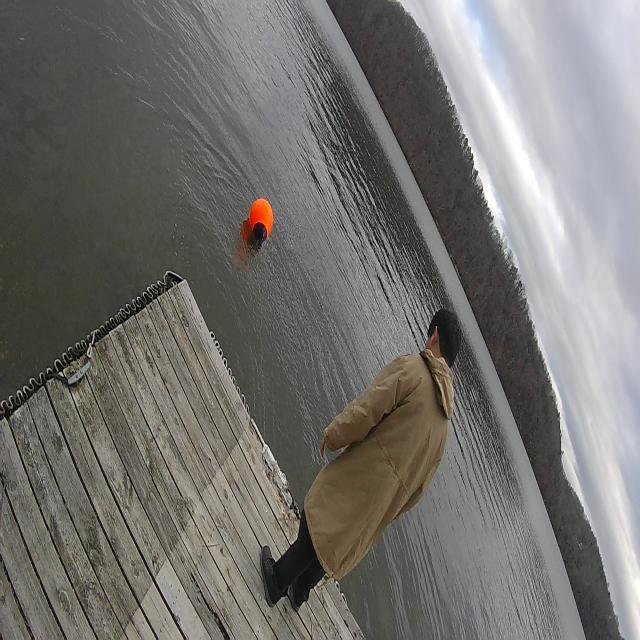Buoy: (249, 194, 275, 245)
